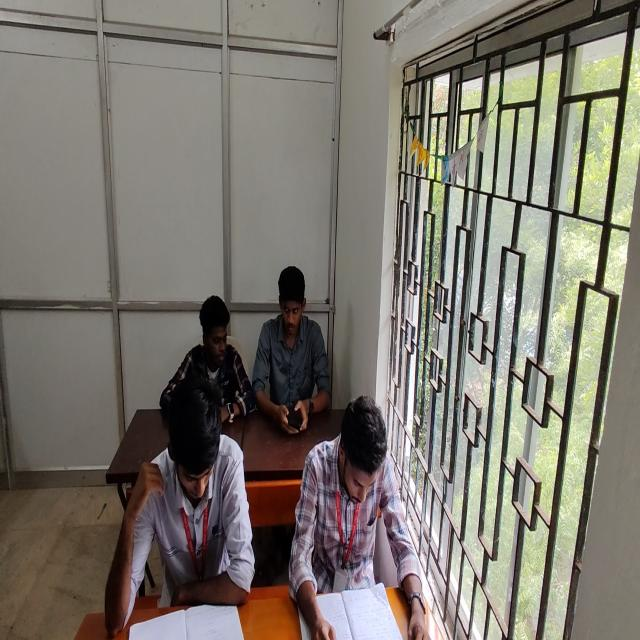reading: (105, 381, 254, 635), (288, 396, 408, 640)
using_mobile: (160, 293, 256, 427), (251, 266, 328, 430)
